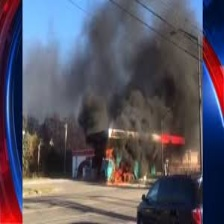smoke: (76, 23, 197, 139)
